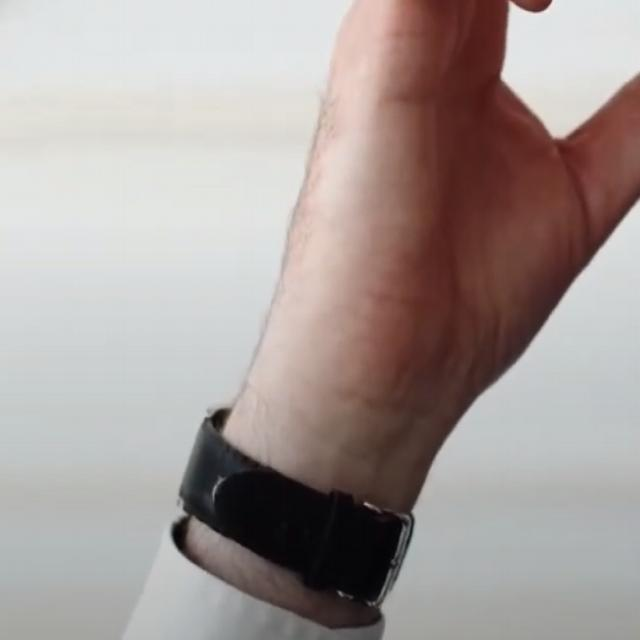Watch: (181, 405, 418, 617)
